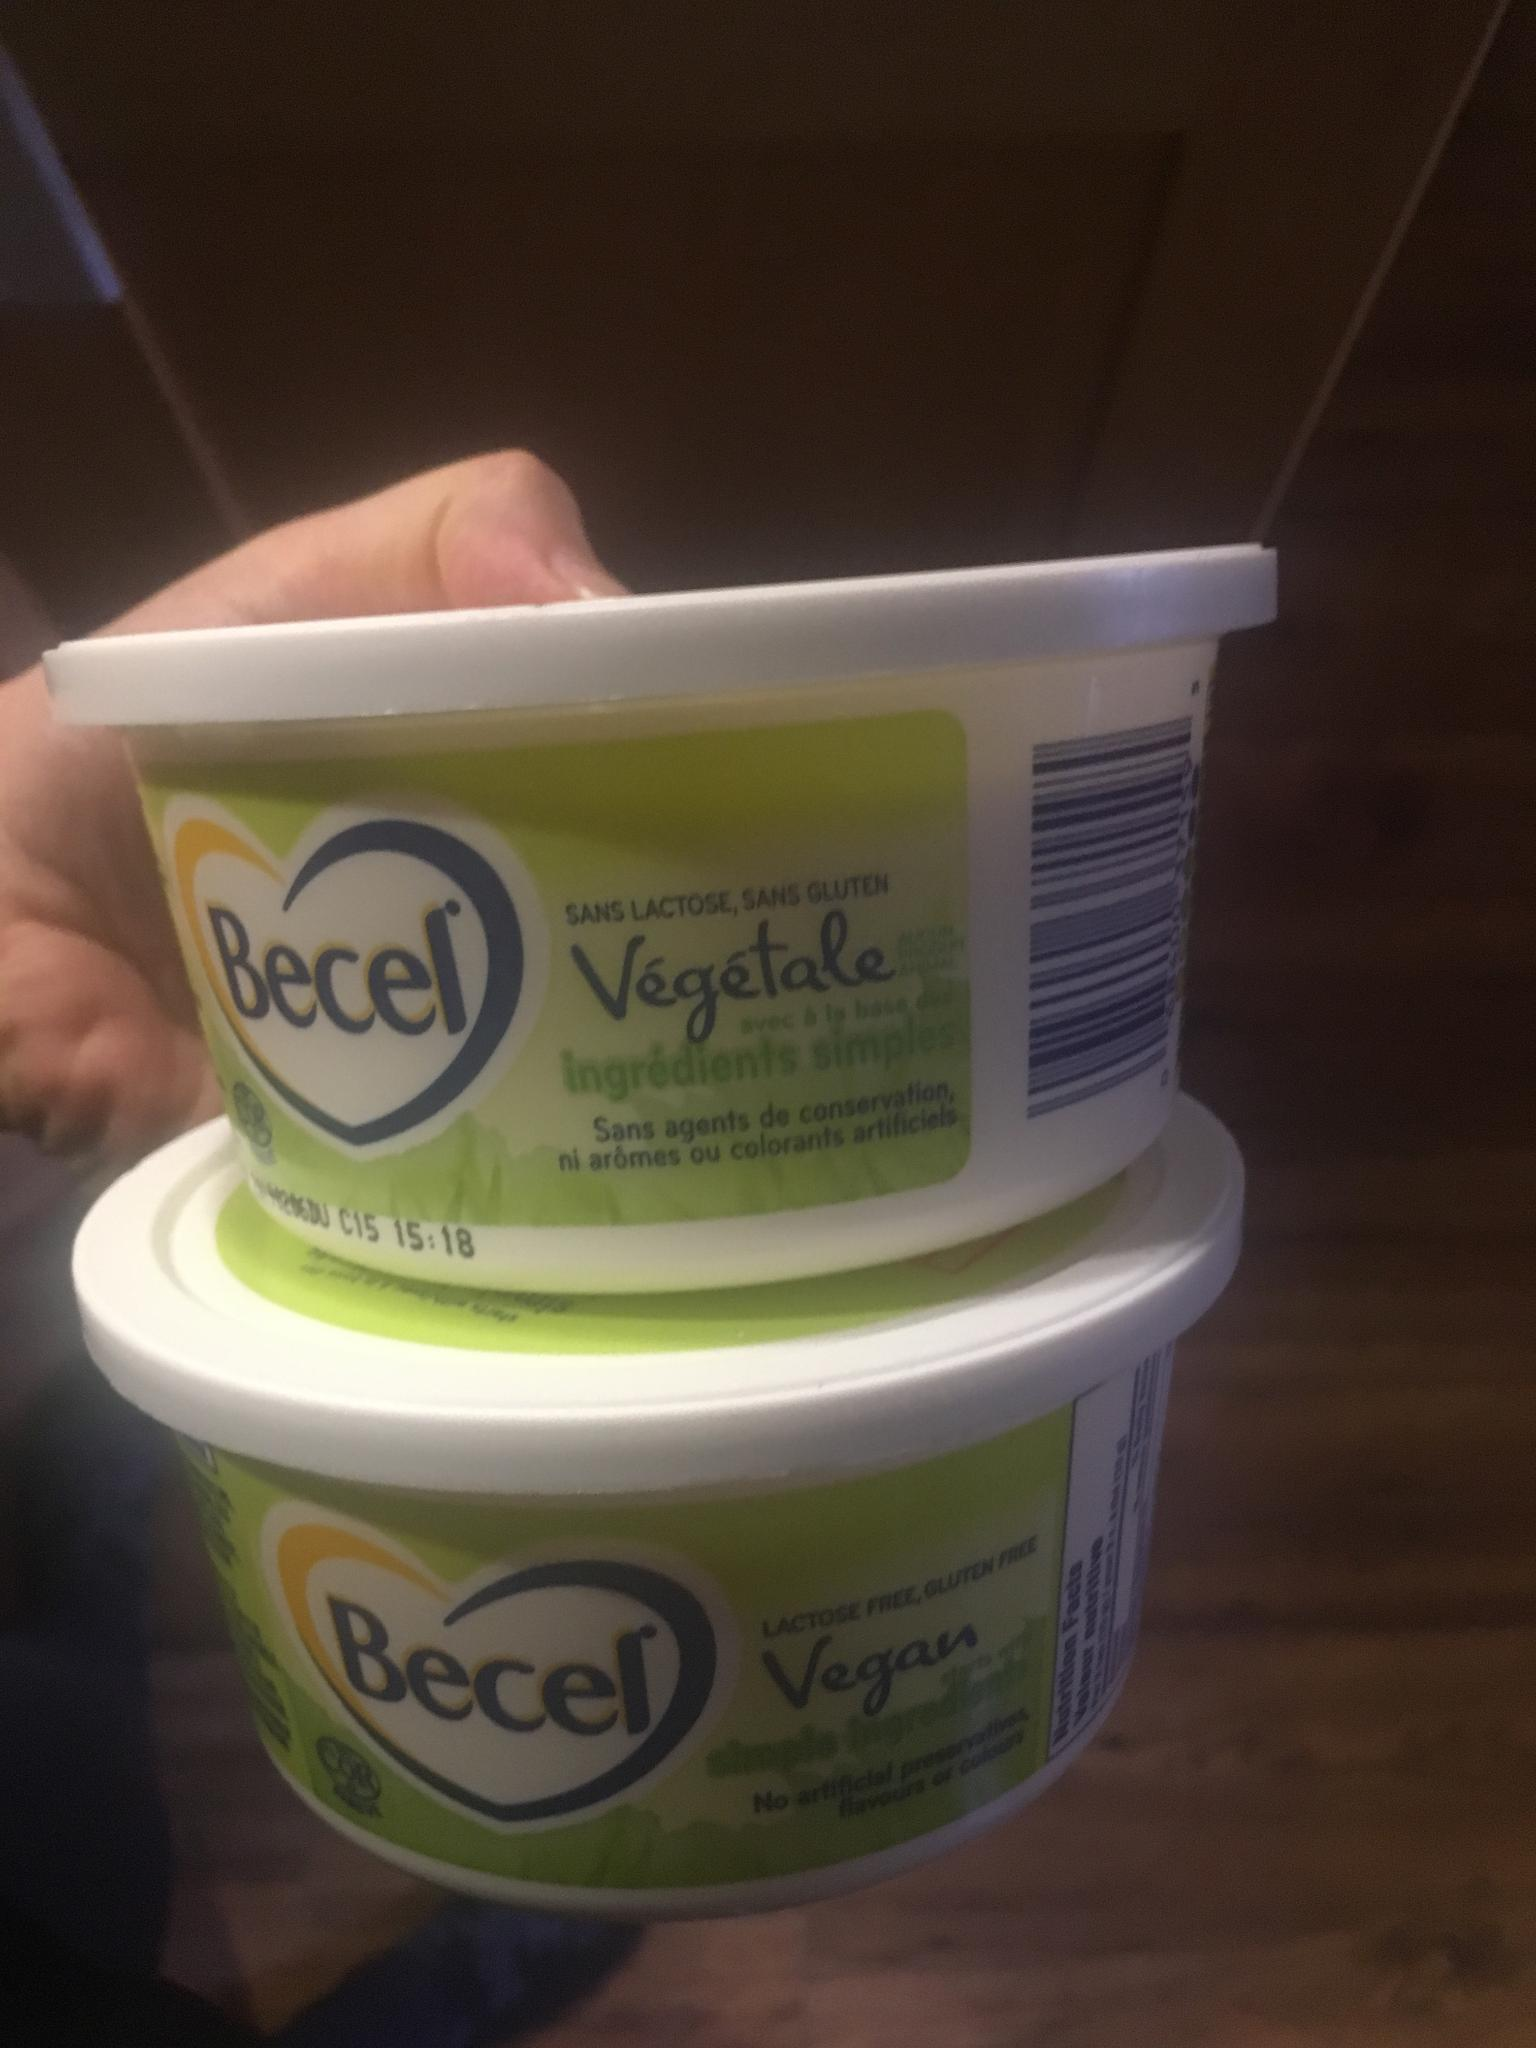plastic: (0, 456, 1275, 1293), (74, 1100, 1241, 1916)
